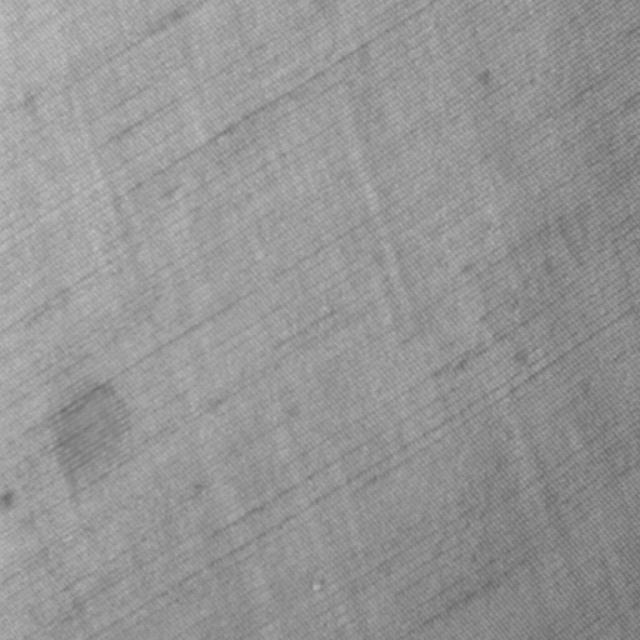oil spot: (47, 374, 140, 506)
